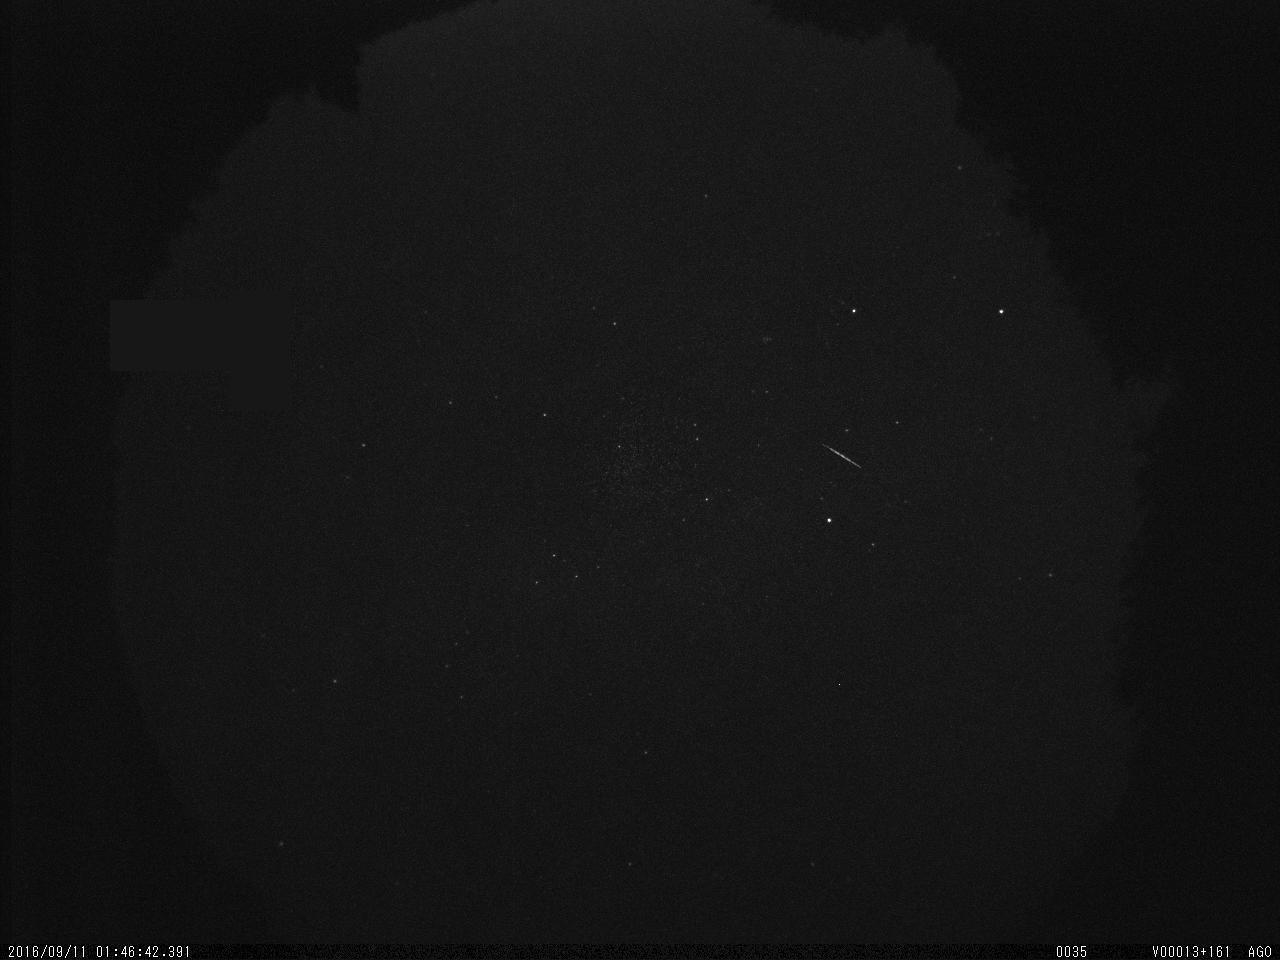Meteor: (820, 440, 863, 469)
